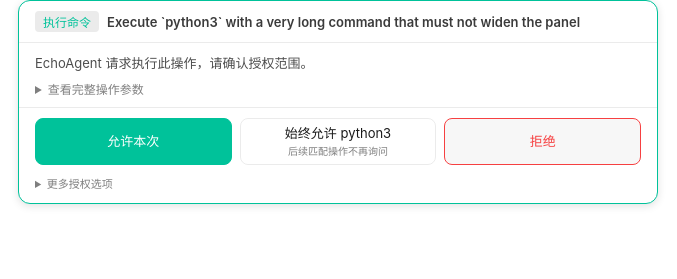
Test case: PermissionInlineCard › 有精确范围授权时优先提供，任务级全授权收入更多选项
The image size is (677, 279).
Check: the button "始终允许 python3 后续匹配操作不再询问" is shown, box [240,118,436,165]
Check: the button "本任务始终允许" is not shown
Click the heading "更多授权选项": (74, 183) [35,175,113,191]
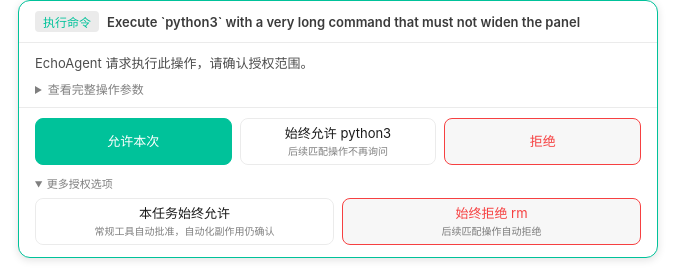
Check: the button "本任务始终允许 常规工具自动批准，自动化副作用仍确认" is shown, box [35,198,334,245]
